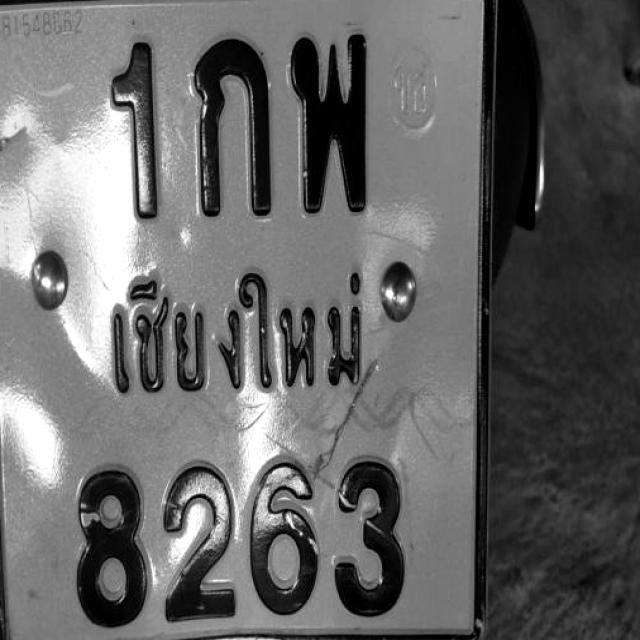letters: (276, 34, 402, 224), (193, 37, 288, 228), (155, 449, 239, 623), (338, 452, 420, 626), (62, 435, 139, 611), (254, 446, 322, 622), (117, 25, 175, 223)
license-plate: (0, 0, 487, 640)
province: (60, 291, 415, 393)
